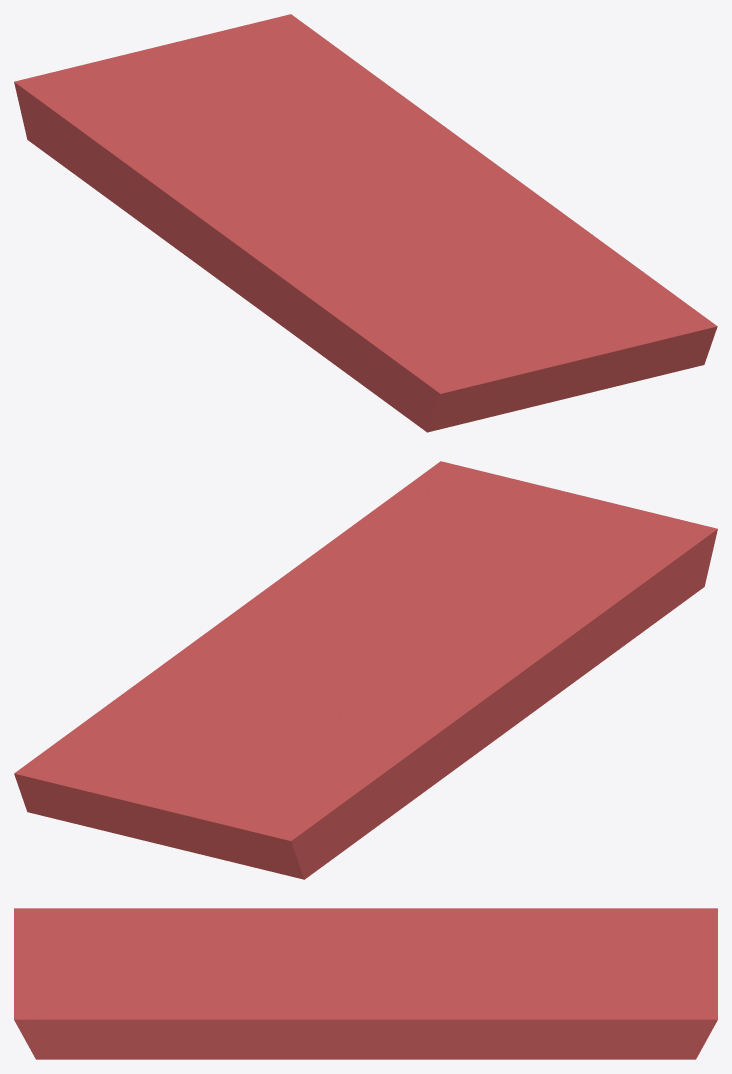
Rendered from rc_shiso.glb.
The picture shows the model from 3 angles, top to bottom: view 1: azimuth 30°, elevation 25°; view 2: azimuth 150°, elevation 25°; view 3: azimuth 270°, elevation 25°; orthographic projection. The views are drawn at different scales.
Visible parts, largest first — view 1: rc_shiso_col; view 2: rc_shiso_col; view 3: rc_shiso_col.
Boxes of the visible parts, bbox=[...] form: rc_shiso_col: bbox=[14, 14, 717, 432]; rc_shiso_col: bbox=[14, 461, 717, 879]; rc_shiso_col: bbox=[14, 908, 717, 1059].
Bounding box in the file's own units: 0.6006 × 0.1004 × 1.6.
